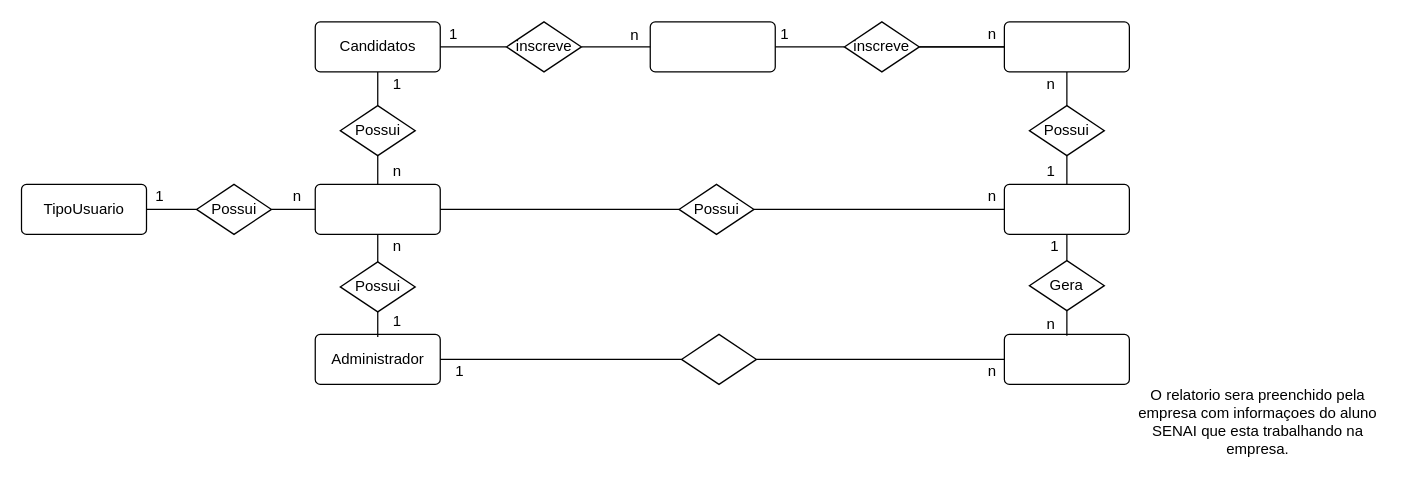
Some shapes in this 1410 by 494 pixel diagram are drawn without their labels. The box of each missing label's shape, as (x1, y1, x2, y2) in pixels:
Empresa: (1003, 183, 1129, 234)
Inscricao: (649, 21, 775, 72)
RelatorioVaga: (1003, 333, 1129, 384)
Usuario: (314, 183, 440, 234)
Vagas: (1003, 21, 1129, 72)
Visualiza: (680, 333, 756, 384)
